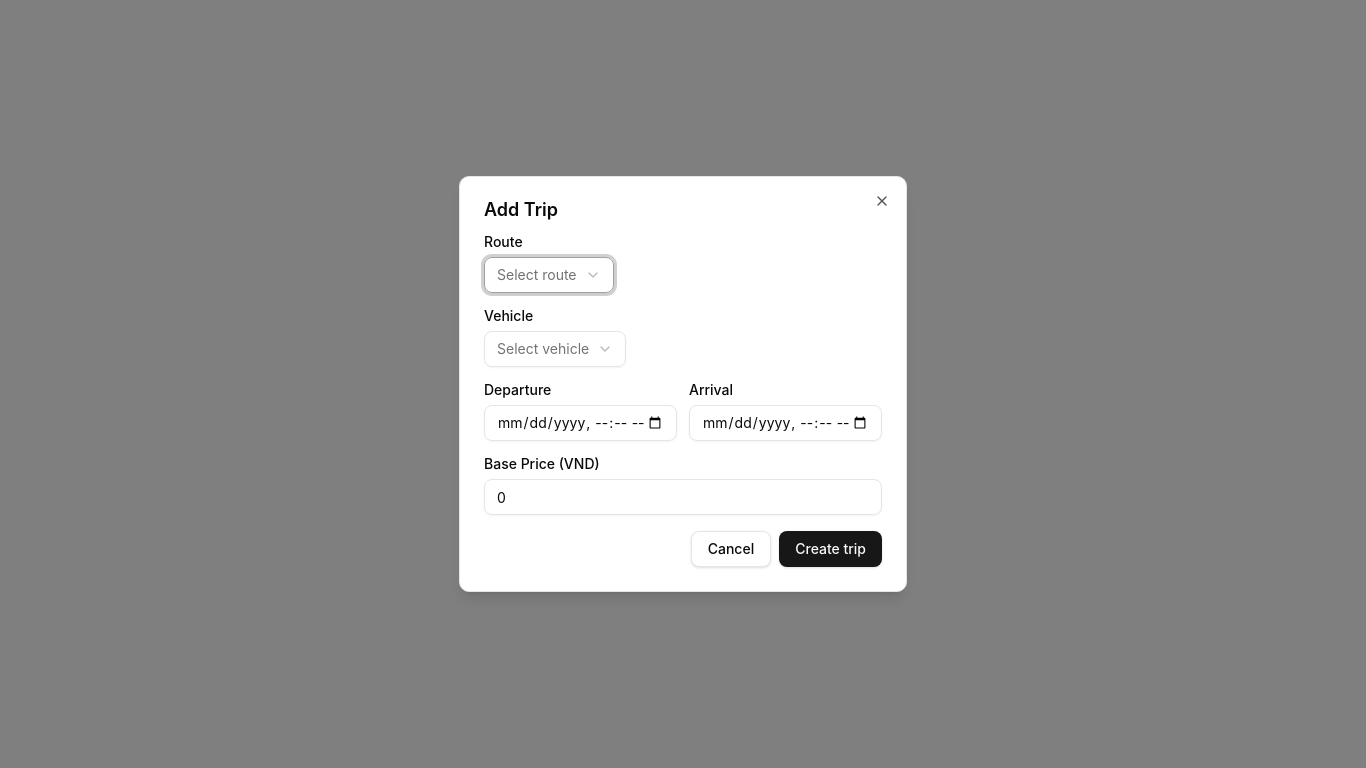
Test: TripFormDialog › shows validation errors on empty create submit
The width and height of the screenshot is (1366, 768).
Click the button "Create trip" at coordinates (831, 549), box x1=779 y1=531 x2=882 y2=567
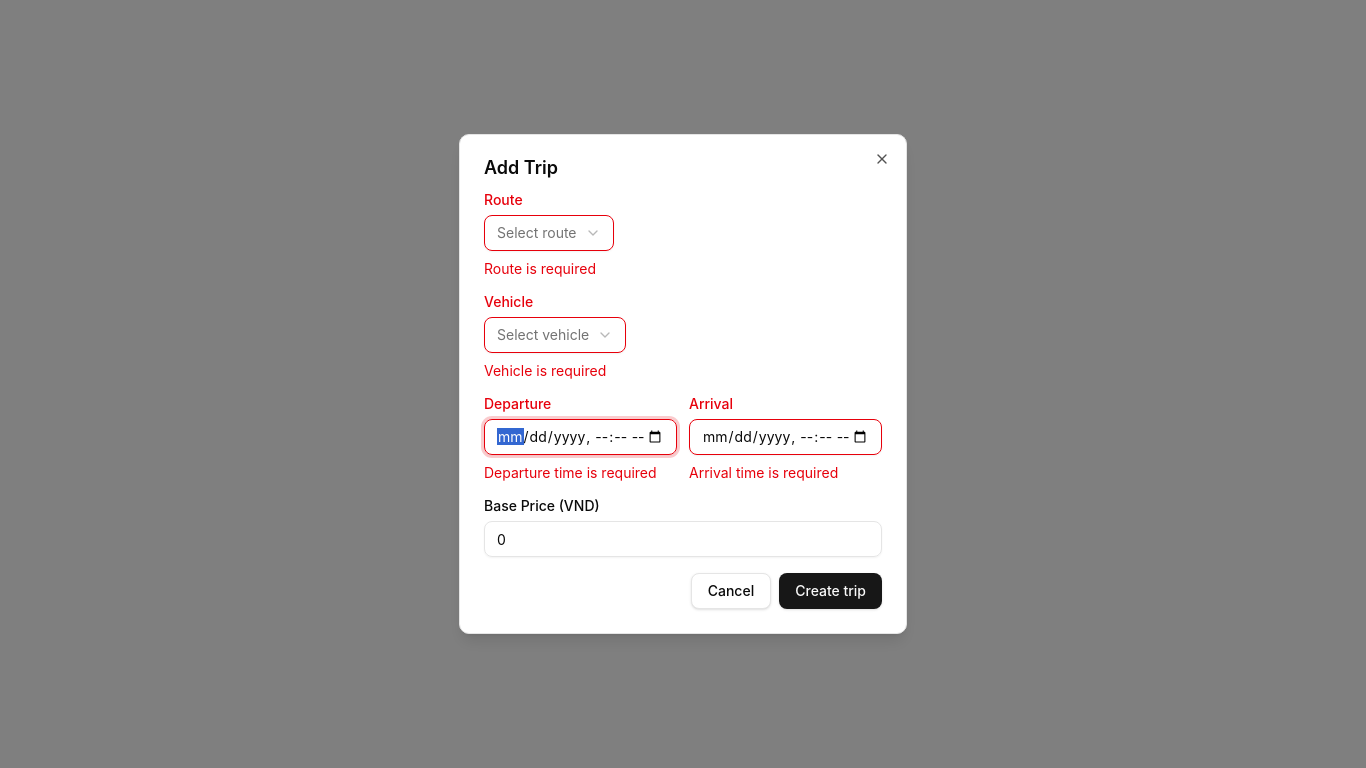
Now the text "Route is required" is shown, box x1=484 y1=260 x2=596 y2=277
